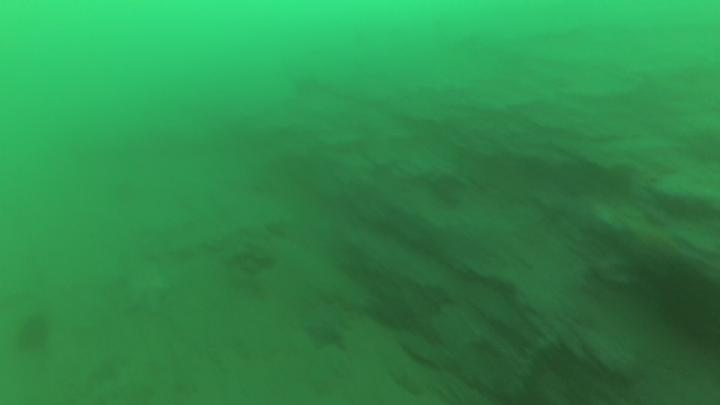echinus: (651, 261, 720, 354), (12, 310, 54, 357)
starfish: (299, 302, 354, 354), (118, 265, 174, 316)
